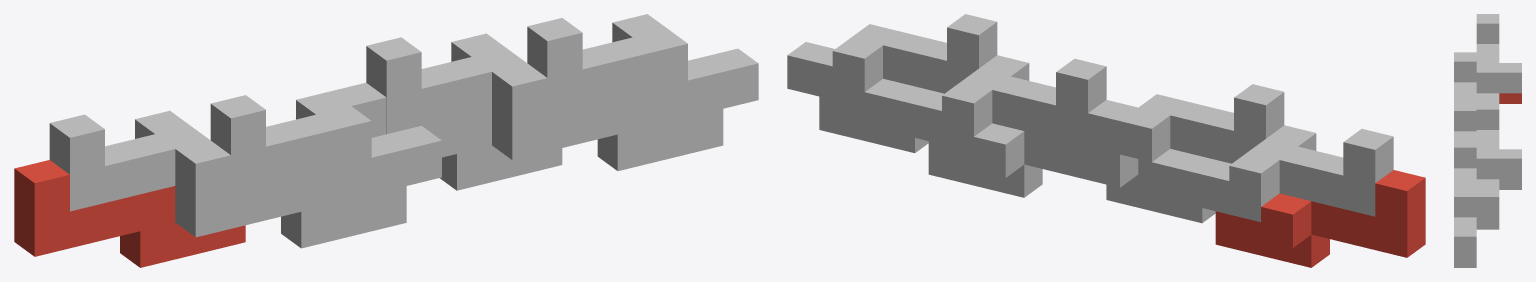
Rendered from tiling.obj.
3 views of the same model, side by side, from view 1: azimuth 30°, elevation 25°; view 2: azimuth 150°, elevation 25°; view 3: azimuth 270°, elevation 25° (orthographic). The views are drawn at different scales.
Parts seen in each view (by area): view 1: copy_1_domain_8, copy_1_domain_4, copy_1_domain_2, copy_1_domain_6, copy_1_domain_1, copy_1_domain_3, copy_1_domain_7, copy_1_domain_5; view 2: copy_1_domain_3, copy_1_domain_7, copy_1_domain_8, copy_1_domain_1, copy_1_domain_5, copy_1_domain_4, copy_1_domain_6, copy_1_domain_2; view 3: copy_1_domain_8, copy_1_domain_7, copy_1_domain_3, copy_1_domain_4, copy_1_domain_6, copy_1_domain_5, copy_1_domain_1.
Boxes of the visible parts, bbox=[...] form: copy_1_domain_8: bbox=[527, 14, 758, 125]; copy_1_domain_4: bbox=[210, 91, 441, 202]; copy_1_domain_2: bbox=[175, 140, 406, 248]; copy_1_domain_6: bbox=[492, 63, 723, 170]; copy_1_domain_1: bbox=[14, 160, 245, 267]; copy_1_domain_3: bbox=[49, 110, 210, 211]; copy_1_domain_7: bbox=[366, 33, 526, 133]; copy_1_domain_5: bbox=[331, 82, 562, 190]; copy_1_domain_3: bbox=[1183, 129, 1393, 222]; copy_1_domain_7: bbox=[896, 58, 1106, 151]; copy_1_domain_8: bbox=[787, 14, 997, 107]; copy_1_domain_1: bbox=[1215, 170, 1425, 267]; copy_1_domain_5: bbox=[928, 100, 1138, 197]; copy_1_domain_4: bbox=[1120, 84, 1284, 177]; copy_1_domain_6: bbox=[819, 55, 1029, 152]; copy_1_domain_2: bbox=[1106, 125, 1316, 223]; copy_1_domain_8: bbox=[1454, 138, 1499, 256]; copy_1_domain_7: bbox=[1476, 100, 1521, 187]; copy_1_domain_3: bbox=[1476, 14, 1521, 99]; copy_1_domain_4: bbox=[1454, 52, 1476, 138]; copy_1_domain_6: bbox=[1454, 217, 1499, 267]; copy_1_domain_5: bbox=[1476, 179, 1521, 229]; copy_1_domain_1: bbox=[1499, 93, 1521, 103].
Size of the model in its own units: 20 by 4 by 3.
